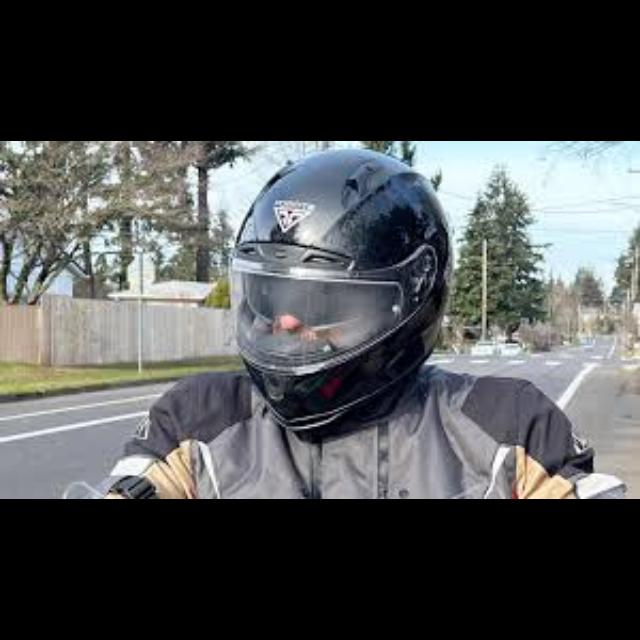motorcycle-helmets: (233, 152, 450, 435)
